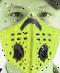with_mask: (1, 2, 60, 73)
